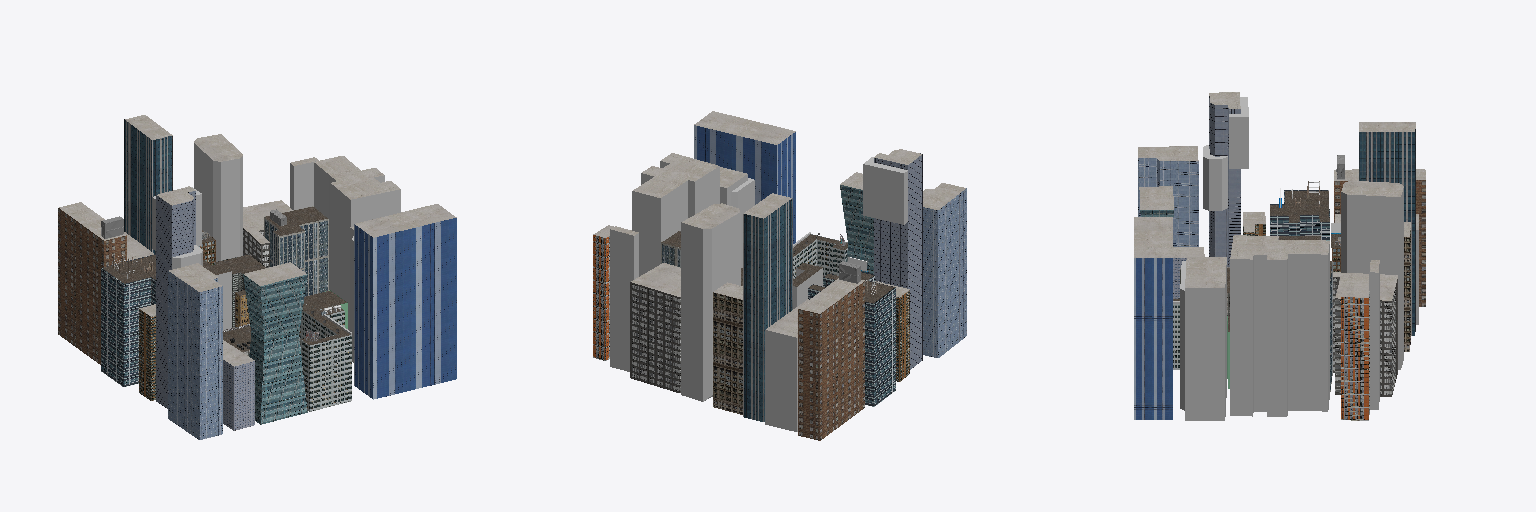
3 views of the same model, side by side, from view 1: azimuth 30°, elevation 25°; view 2: azimuth 150°, elevation 25°; view 3: azimuth 270°, elevation 25° (orthographic).
Visible parts, largest first — view 1: Edificio004_parque_espana.osm_buildings.009, Azoteas_parque_espana.osm_buildings.004, Edificio008_parque_espana.osm_buildings.016, Edificio006_parque_espana.osm_buildings.011, edificio0010_parque_espana.osm_buildings.013, Edificio05_parque_espana.osm_buildings.025, Edificio005_parque_espana.osm_buildings.010, Edificio003_parque_espana.osm_buildings.008, Edificio001_parque_espana.osm_buildings.002, Edificio009_parque_espana.osm_buildings.018, azoteas_parque_espana.osm_buildings.003, Edificio010_parque_espana.osm_buildings.027 (+7 smaller); view 2: Azoteas_parque_espana.osm_buildings.004, edificio0010_parque_espana.osm_buildings.013, Edificio005_parque_espana.osm_buildings.010, Edificio001_parque_espana.osm_buildings.002, Edificio008_parque_espana.osm_buildings.016, Edificio009_parque_espana.osm_buildings.018, edificio0011_parque_espana.osm_buildings.019, Edificio004_parque_espana.osm_buildings.009, Edificio003_parque_espana.osm_buildings.008, Edificio0015_parque_espana.osm_buildings.022, Edificio05_parque_espana.osm_buildings.025, Edificio0014_parque_espana.osm_buildings.021 (+9 smaller); view 3: Edificio003_parque_espana.osm_buildings.008, Azoteas_parque_espana.osm_buildings.004, Edificio002_parque_espana.osm_buildings.006, Edificio004_parque_espana.osm_buildings.009, Edificio001_parque_espana.osm_buildings.002, Edificio005_parque_espana.osm_buildings.010, Edificio0012_parque_espana.osm_buildings.001, Edificio008_parque_espana.osm_buildings.016, Edificio009_parque_espana.osm_buildings.018, Edificio009_extrusiones_parque_espana.osm_buildings.017, edificio0011_parque_espana.osm_buildings.019, azoteas_parque_espana.osm_buildings.003 (+4 smaller).
Boxes of the visible parts, x1=… form: Edificio004_parque_espana.osm_buildings.009: x1=354, y1=218, x2=456, y2=399; Azoteas_parque_espana.osm_buildings.004: x1=59, y1=115, x2=456, y2=366; Edificio008_parque_espana.osm_buildings.016: x1=168, y1=271, x2=222, y2=439; Edificio006_parque_espana.osm_buildings.011: x1=243, y1=274, x2=307, y2=424; edificio0010_parque_espana.osm_buildings.013: x1=58, y1=208, x2=126, y2=364; Edificio05_parque_espana.osm_buildings.025: x1=101, y1=254, x2=155, y2=386; Edificio005_parque_espana.osm_buildings.010: x1=124, y1=119, x2=172, y2=253; Edificio003_parque_espana.osm_buildings.008: x1=314, y1=163, x2=400, y2=330; Edificio001_parque_espana.osm_buildings.002: x1=194, y1=143, x2=242, y2=261; Edificio009_parque_espana.osm_buildings.018: x1=156, y1=191, x2=195, y2=408; azoteas_parque_espana.osm_buildings.003: x1=103, y1=207, x2=349, y2=351; Edificio010_parque_espana.osm_buildings.027: x1=299, y1=304, x2=351, y2=411; Azoteas_parque_espana.osm_buildings.004: x1=593, y1=111, x2=965, y2=337; edificio0010_parque_espana.osm_buildings.013: x1=798, y1=281, x2=864, y2=440; Edificio005_parque_espana.osm_buildings.010: x1=743, y1=198, x2=792, y2=421; Edificio001_parque_espana.osm_buildings.002: x1=681, y1=212, x2=740, y2=401; Edificio008_parque_espana.osm_buildings.016: x1=923, y1=188, x2=966, y2=357; Edificio009_parque_espana.osm_buildings.018: x1=874, y1=153, x2=922, y2=369; edificio0011_parque_espana.osm_buildings.019: x1=630, y1=282, x2=680, y2=392; Edificio004_parque_espana.osm_buildings.009: x1=694, y1=125, x2=795, y2=243; Edificio003_parque_espana.osm_buildings.008: x1=632, y1=161, x2=719, y2=276; Edificio0015_parque_espana.osm_buildings.022: x1=713, y1=292, x2=742, y2=414; Edificio05_parque_espana.osm_buildings.025: x1=808, y1=272, x2=895, y2=406; Edificio0014_parque_espana.osm_buildings.021: x1=610, y1=229, x2=638, y2=371; Edificio003_parque_espana.osm_buildings.008: x1=1230, y1=238, x2=1329, y2=416; Azoteas_parque_espana.osm_buildings.004: x1=1134, y1=92, x2=1425, y2=300; Edificio002_parque_espana.osm_buildings.006: x1=1180, y1=261, x2=1226, y2=420; Edificio004_parque_espana.osm_buildings.009: x1=1134, y1=258, x2=1172, y2=419; Edificio001_parque_espana.osm_buildings.002: x1=1341, y1=188, x2=1403, y2=369; Edificio005_parque_espana.osm_buildings.010: x1=1359, y1=129, x2=1415, y2=335; Edificio0012_parque_espana.osm_buildings.001: x1=1341, y1=292, x2=1369, y2=420; Edificio008_parque_espana.osm_buildings.016: x1=1138, y1=158, x2=1198, y2=246; Edificio009_parque_espana.osm_buildings.018: x1=1209, y1=96, x2=1240, y2=266; Edificio009_extrusiones_parque_espana.osm_buildings.017: x1=1203, y1=97, x2=1248, y2=210; edificio0011_parque_espana.osm_buildings.019: x1=1333, y1=277, x2=1397, y2=396; azoteas_parque_espana.osm_buildings.003: x1=1173, y1=191, x2=1340, y2=331.
Bounding box in the file's own units: 83.72 × 64.43 × 80.85.
57 materials, 35 textured.